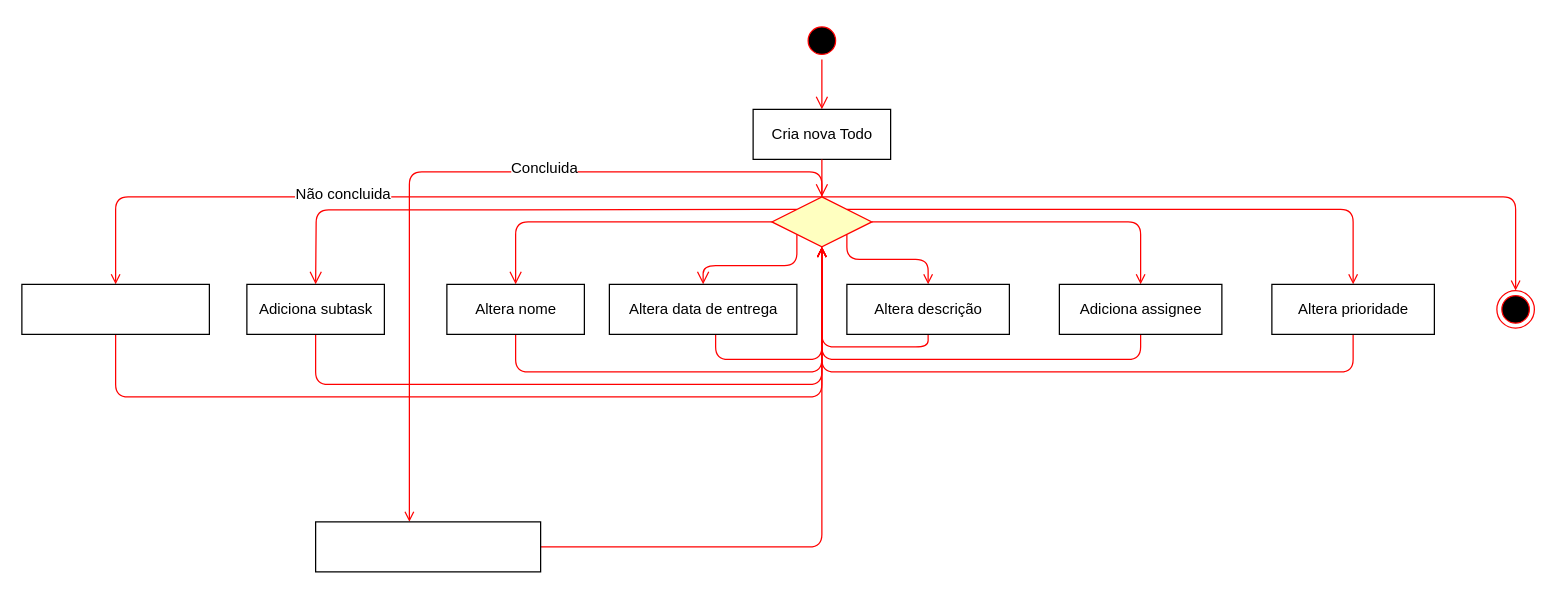
The diagram is 1556 pixels wide and 594 high, and some of its shapes have lost their labels. The shapes that lost their labels are listed below. From the top down, each one's centre as x and y in pixels, then its label:
the point at 115,308: Marcar como concluida
the point at 427,546: Marcar como não concluida
